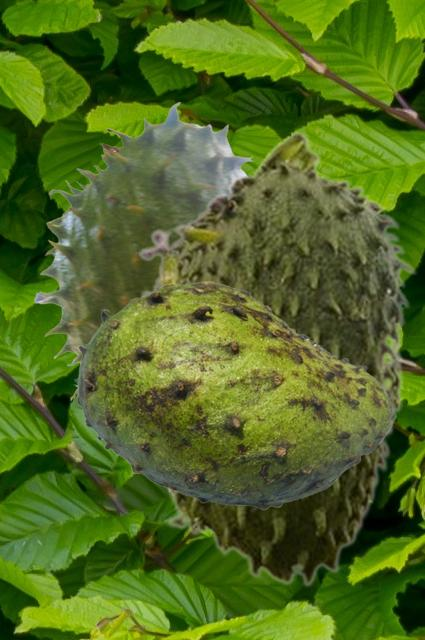guyabano: (139, 128, 416, 586), (74, 280, 395, 509), (34, 102, 253, 401)
